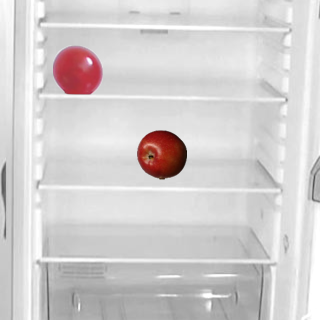Apple Braeburn: (136, 129, 186, 179)
Redcurrant: (52, 44, 102, 94)
